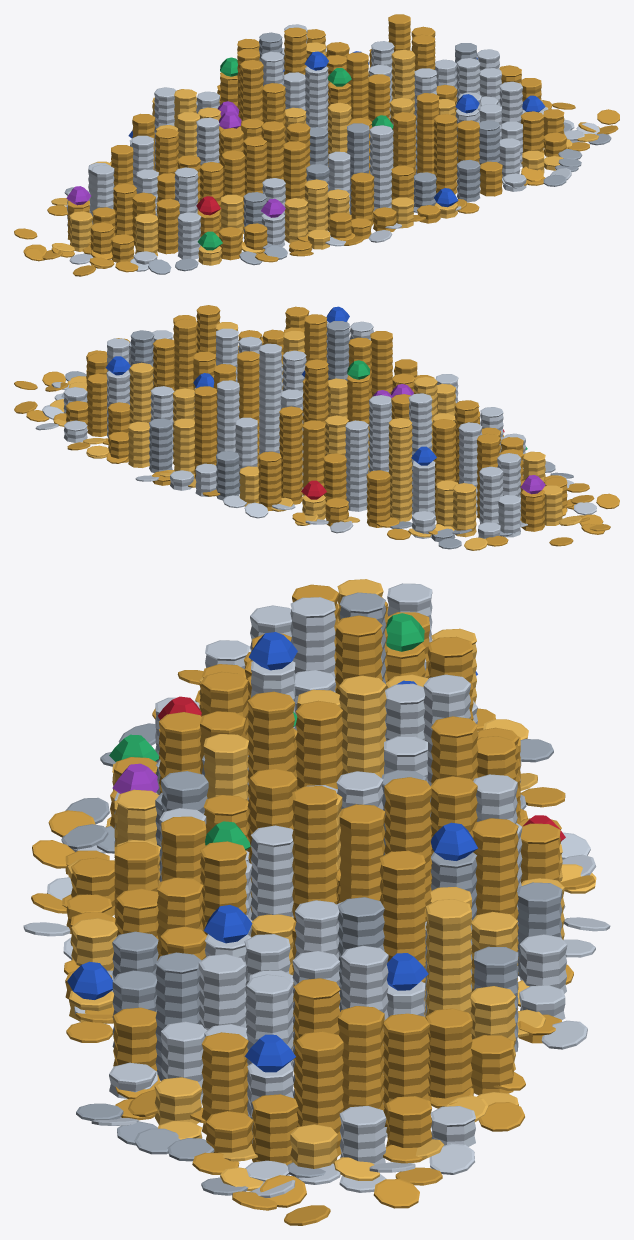
Rendered from PileBackBank.fbx.
The picture shows the model from 3 angles, top to bottom: view 1: azimuth 30°, elevation 25°; view 2: azimuth 150°, elevation 25°; view 3: azimuth 270°, elevation 25°; orthographic projection. The views are drawn at different scales.
Visible parts, largest first — view 1: PileBackBank; view 2: PileBackBank; view 3: PileBackBank.
Part boxes in pixels (bbox=[...]): PileBackBank: bbox=[14, 14, 619, 276]; PileBackBank: bbox=[14, 305, 619, 550]; PileBackBank: bbox=[23, 579, 610, 1225].
Bounding box in the file's own units: 201 × 49.8 × 86.27.
